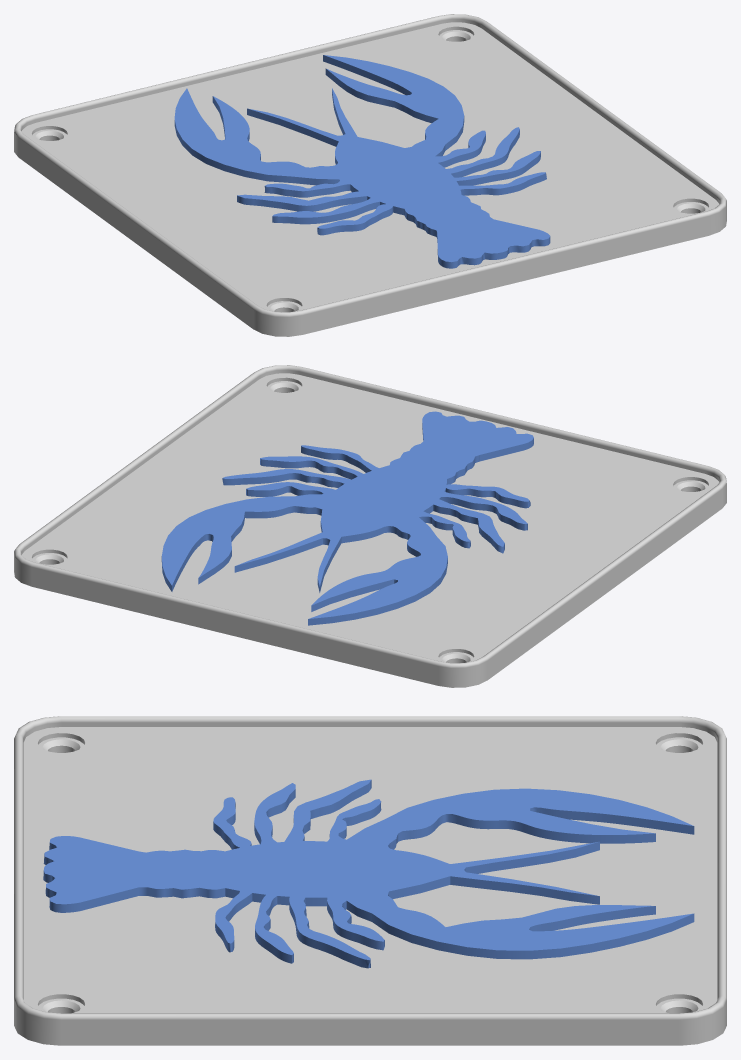
3 views of the same model, one above another, from view 1: azimuth 30°, elevation 25°; view 2: azimuth 150°, elevation 25°; view 3: azimuth 270°, elevation 25° (orthographic). The views are drawn at different scales.
Visible parts, largest first — view 1: Object__0, Object__1; view 2: Object__0, Object__1; view 3: Object__0, Object__1.
Part boxes in pixels (<box>): Object__0: <box>14,14,726,336</box>; Object__1: <box>174,55,550,268</box>; Object__0: <box>14,365,726,687</box>; Object__1: <box>161,411,533,625</box>; Object__0: <box>14,716,726,1045</box>; Object__1: <box>43,779,694,968</box>.
Bounding box in the file's own units: 150 × 7 × 150.
